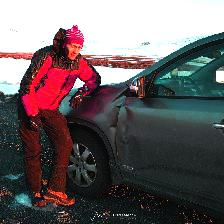door_dent: (101, 86, 143, 172)
